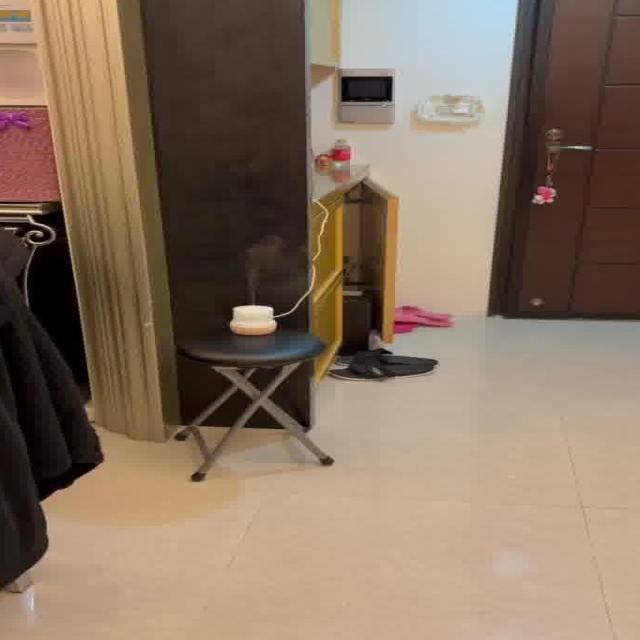fire: (233, 238, 290, 299)
